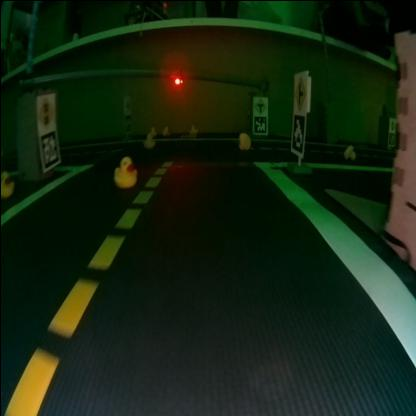Duckie: (113, 156, 136, 186), (1, 171, 11, 196), (237, 132, 249, 148), (142, 132, 154, 146), (343, 144, 353, 158), (188, 124, 194, 134), (160, 125, 166, 133), (148, 126, 154, 132)
Intersection sign: (293, 76, 305, 108), (252, 96, 264, 112), (122, 95, 130, 111)
QR code: (39, 128, 59, 168), (290, 112, 302, 152), (252, 115, 264, 130), (125, 115, 130, 128), (386, 131, 392, 141)
Signal sign: (38, 94, 54, 126), (389, 119, 394, 129)
Traffic light: (173, 73, 181, 85)
